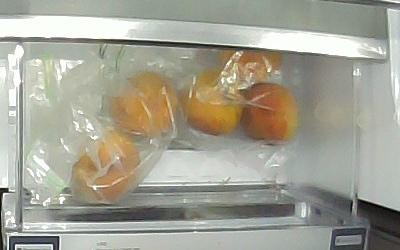peach_vinyl: (70, 128, 141, 203), (108, 71, 179, 135), (183, 70, 244, 135), (239, 83, 299, 140), (221, 50, 281, 82)
